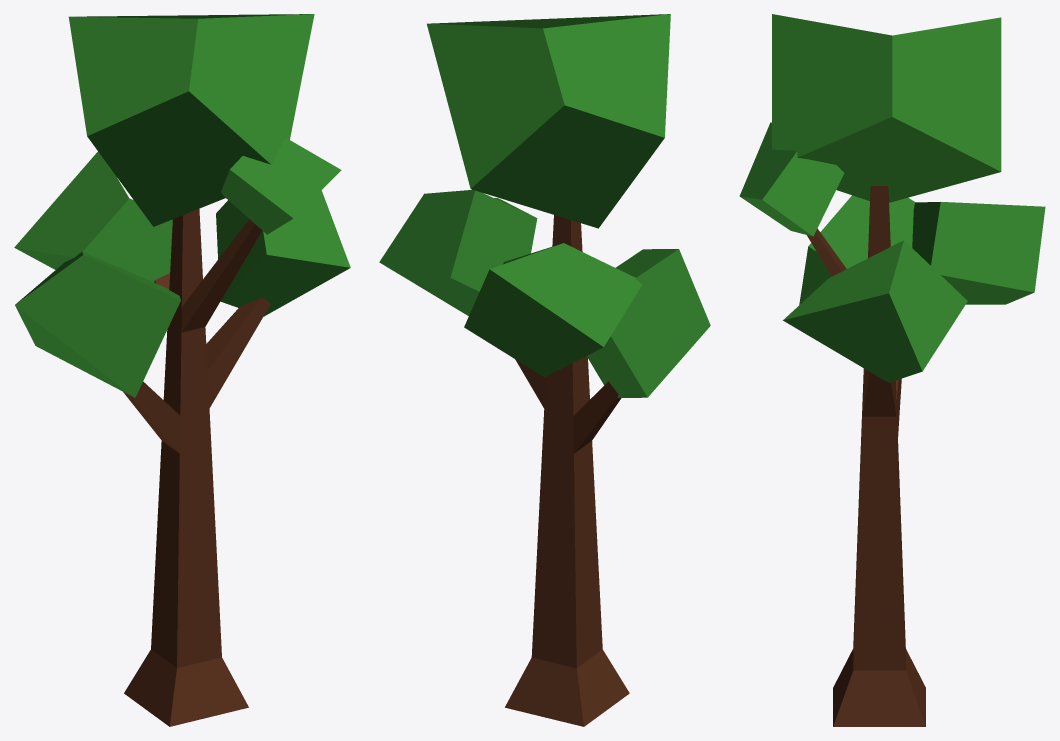
File: Tree.fbx
3 renders of one model, left to right at view 1: azimuth 30°, elevation 25°; view 2: azimuth 150°, elevation 25°; view 3: azimuth 270°, elevation 25°, orthographic.
Parts seen in each view (by area): view 1: Cube.001, Cube, Cube.005, Cube.003, Cube.004, Cube.002; view 2: Cube.001, Cube, Cube.003, Cube.004, Cube.005; view 3: Cube.001, Cube, Cube.004, Cube.003, Cube.002, Cube.005.
Part boxes in pixels (x1,y1,x2,y2): Cube.001: (68,14,314,226); Cube: (123,209,270,726); Cube.005: (15,251,180,397); Cube.003: (14,151,172,281); Cube.004: (216,190,350,316); Cube.002: (221,137,341,234); Cube.001: (427,14,670,228); Cube: (505,215,629,726); Cube.003: (464,243,641,377); Cube.004: (379,189,537,315); Cube.005: (587,249,710,397); Cube.001: (772,14,1001,202); Cube: (807,186,925,726); Cube.004: (783,240,967,382); Cube.003: (912,201,1045,304); Cube.002: (739,122,844,236); Cube.005: (799,195,915,304).
Bounding box in the file's own units: 467 × 926 × 377.
